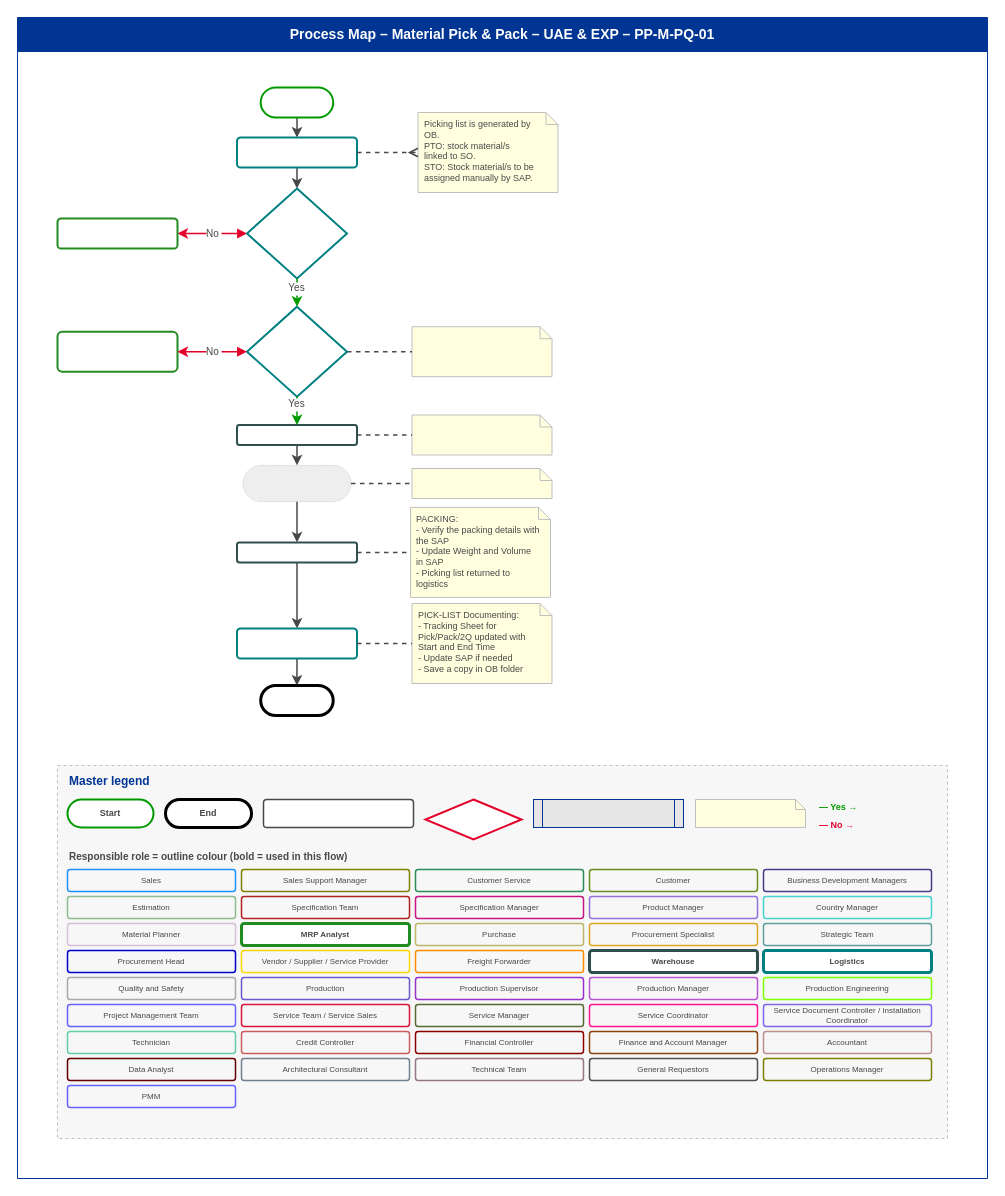
The diagram is 1005 pixels wide and 1196 high, and some of its shapes have lost their labels. Each missing label, with the centre of its shape:
"2Q CHECK Ref S#: WL-S-QC-01" goes at point (296, 483).
"Activity (outline = role)" goes at point (338, 813).
"CHECK-LIST: HS code Country of Origin (COO) Check for missing information!" goes at point (481, 351).
"Customer Service to provide missing information!" goes at point (117, 351).
"Customer Service to released OB!" goes at point (117, 233).
"Decision" goes at point (473, 819).
"Documenting Picking List" goes at point (297, 643).
"EXIT" goes at point (296, 700).
"Linked process (Ref ID)" goes at point (608, 813).
"Materials Packed" goes at point (297, 552).
"Materials Picked" goes at point (297, 435).
"Note / checklist" goes at point (750, 813).
"Outbound (OB) Released?" goes at point (297, 233).
"PICK & PACK" goes at point (296, 102).
"Picking List is received by Logistics" goes at point (297, 152).
"Picking List verified as per CHECK-LIST ?" goes at point (297, 351).
"Update PICK-LIST: Note Start & End Time" goes at point (481, 483).
"VALIDATE PICK-LIST: - Note the Discrepancy - Note Start & End Time" goes at point (481, 434).
